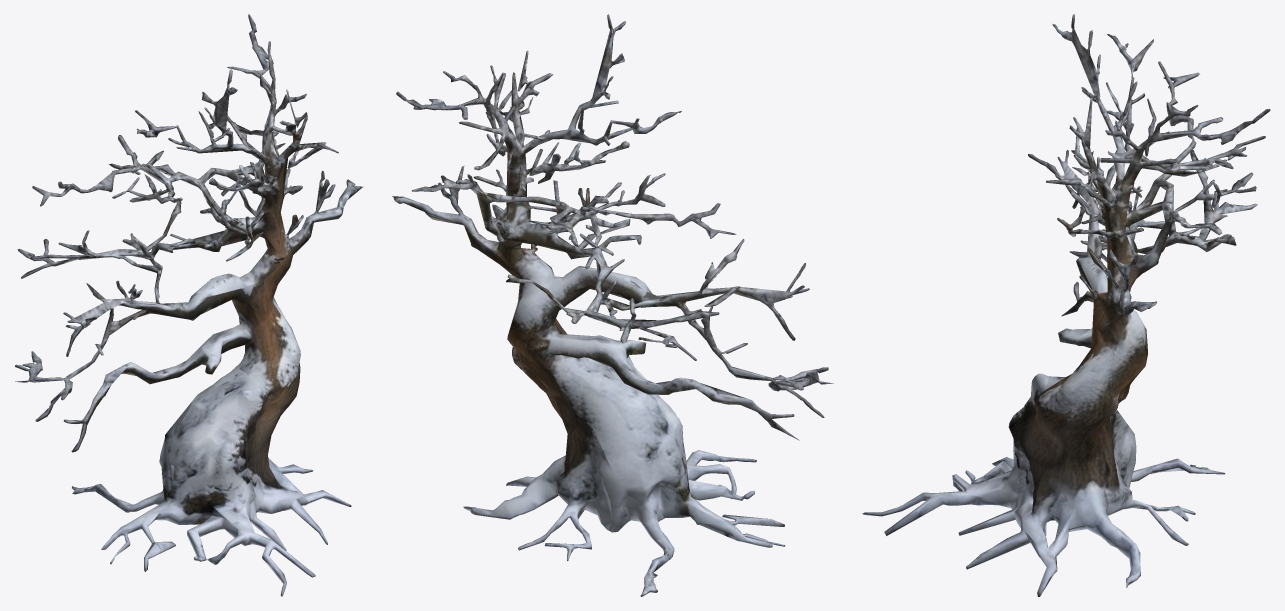
The model's file is albero_spoglio_neve.glb.
The picture shows the model from 3 angles, left to right: view 1: azimuth 30°, elevation 25°; view 2: azimuth 150°, elevation 25°; view 3: azimuth 270°, elevation 25°; orthographic projection. The views are drawn at different scales.
Parts seen in each view (by area): view 1: winter-tree14_LOW_RES; view 2: winter-tree14_LOW_RES; view 3: winter-tree14_LOW_RES.
Part boxes in pixels (<box>): winter-tree14_LOW_RES: <box>15,14,362,596</box>; winter-tree14_LOW_RES: <box>392,14,833,596</box>; winter-tree14_LOW_RES: <box>862,14,1270,596</box>.
Bounding box in the file's own units: 1.65 × 1.94 × 1.36.
Materials: 1 (1 with a texture image).
